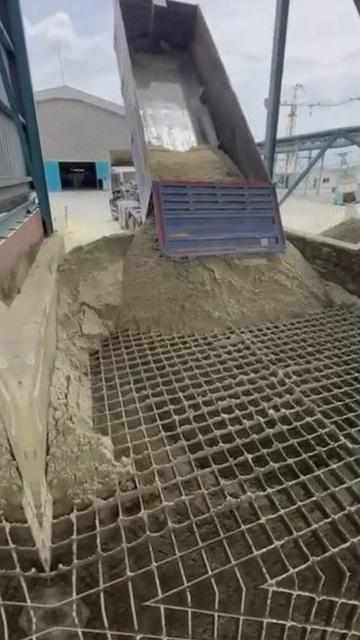sand: (48, 225, 329, 502), (148, 146, 242, 180), (326, 282, 360, 311), (323, 217, 356, 243)
